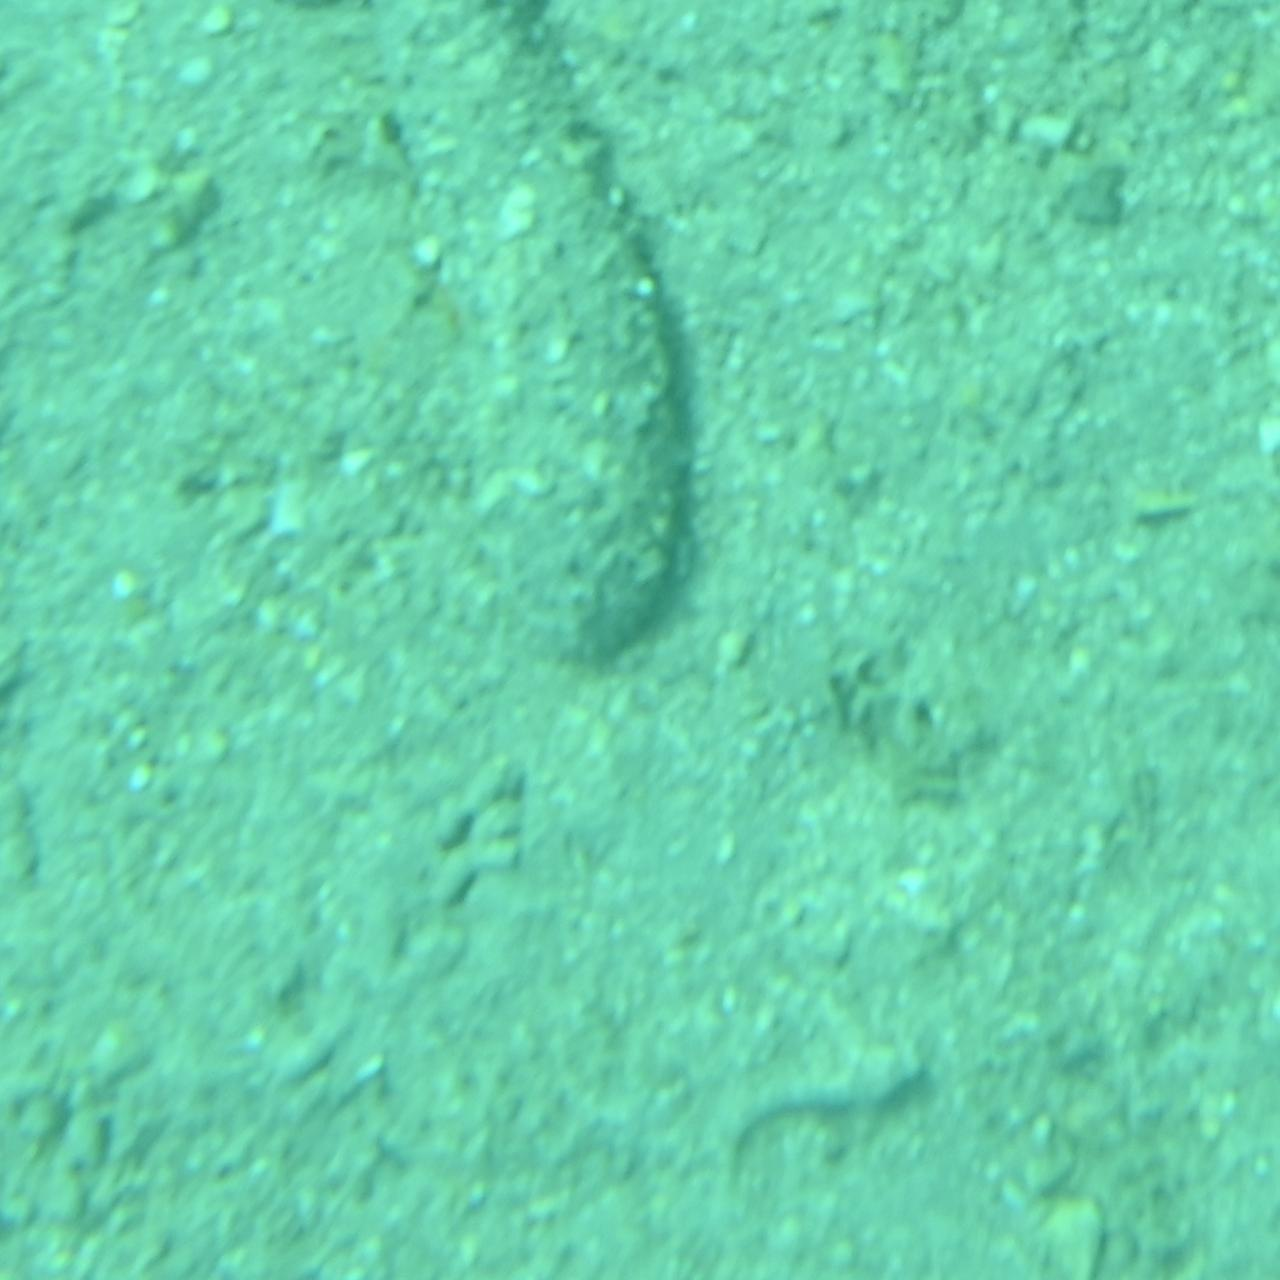Gobius sp: (667, 1014, 926, 1192)
Holothuria tubulosa: (251, 0, 717, 687)
